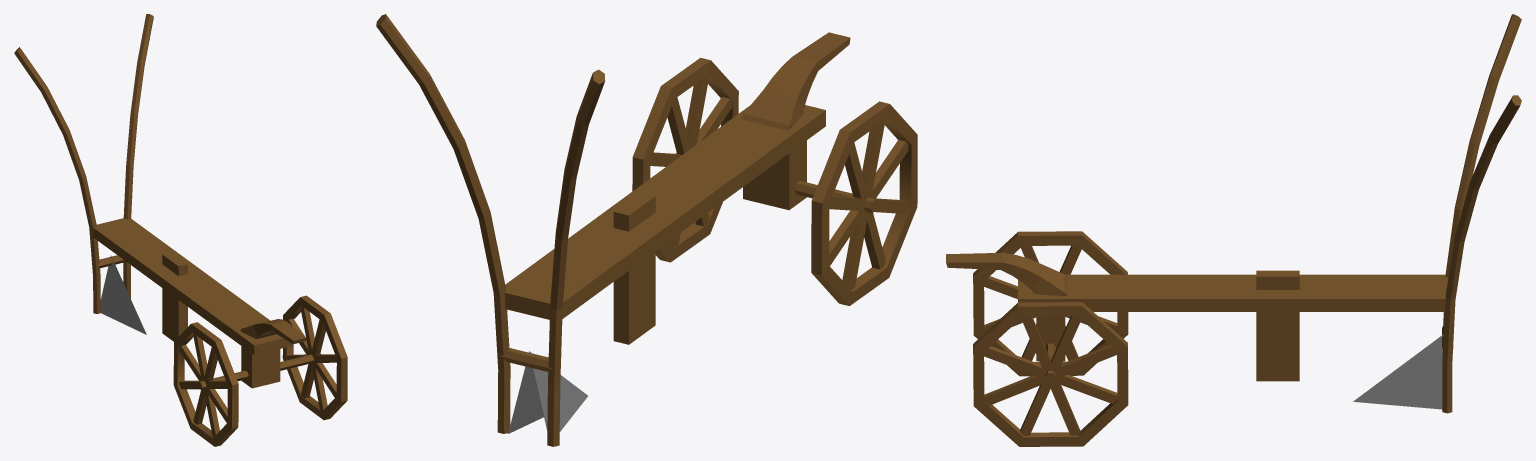
File: Arado1.FBX
3 renders of one model, left to right at view 1: azimuth 30°, elevation 25°; view 2: azimuth 150°, elevation 25°; view 3: azimuth 270°, elevation 25°, orthographic. The views are drawn at different scales.
Visible parts, largest first — view 1: Box001; view 2: Box001; view 3: Box001.
Boxes of the visible parts, x1,y1,x2,y2 form: Box001: [14, 14, 347, 446]; Box001: [376, 14, 917, 446]; Box001: [946, 14, 1521, 446].
Bounding box in the file's own units: 7.4 × 13.57 × 19.94.
